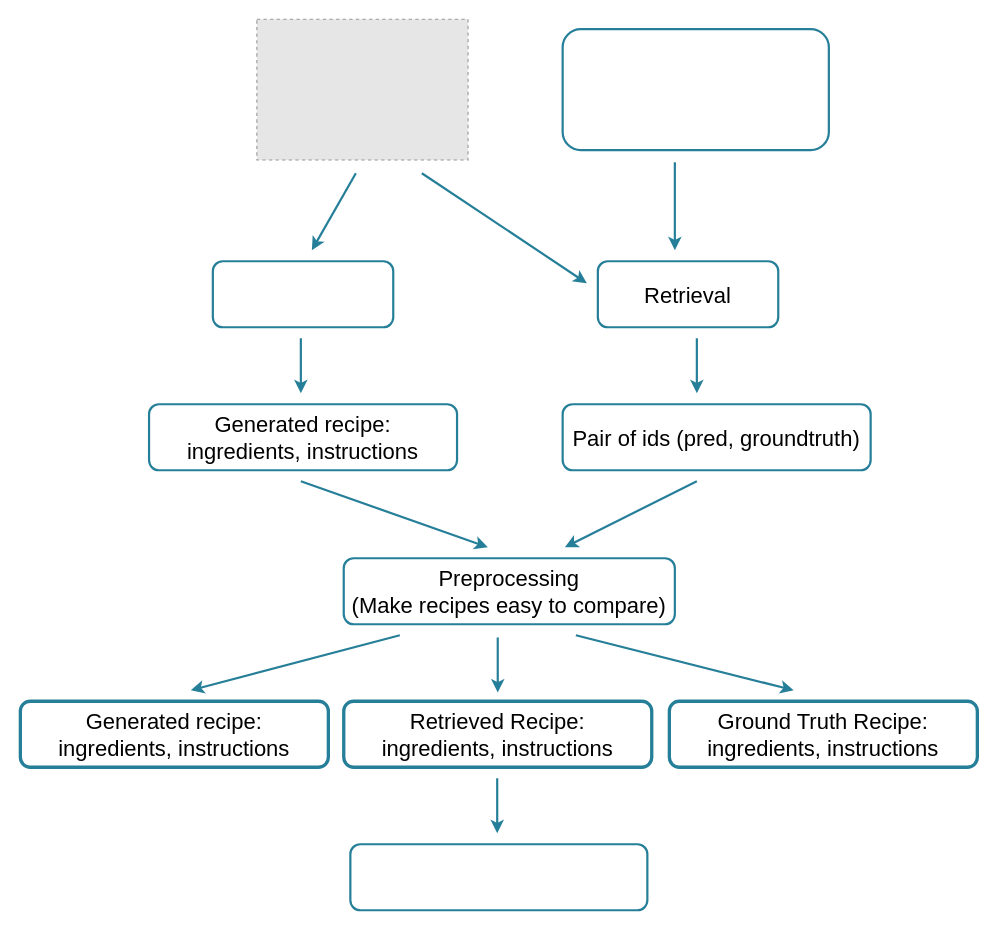
Some shapes in this 998 by 931 pixel diagram are drawn without their labels. Grey dashed boxes stand in for pictures. Each missing label, with the centre of its shape:
Comparison using F1, IoU, BLEU, ROUGE-L metrics: [498,877]
Inverse Cooking: [302,294]
title, images, ingredients, instructions from layer1.json. layer2.json: [695,89]
